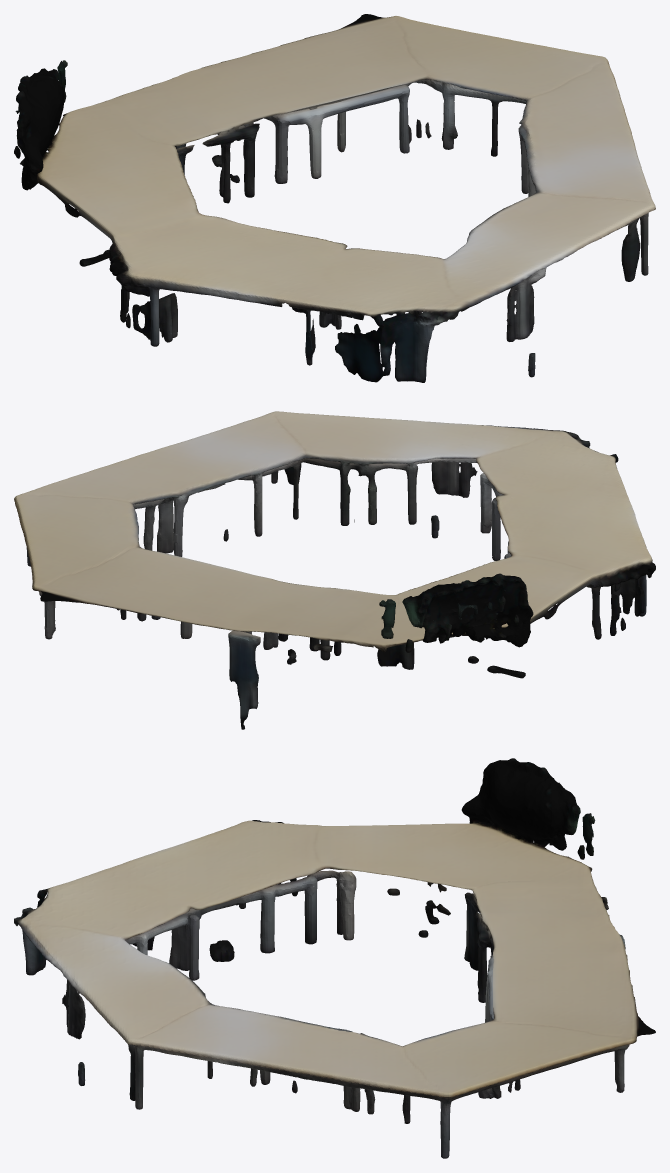
Rendered from trellis_multidiffusion.glb.
3 views of the same model, one above another, from view 1: azimuth 30°, elevation 25°; view 2: azimuth 150°, elevation 25°; view 3: azimuth 270°, elevation 25° (orthographic). The views are drawn at different scales.
Parts seen in each view (by area): view 1: world; view 2: world; view 3: world.
Part boxes in pixels (box(x1,y1,x2,y2)): world: box(14, 14, 655, 382); world: box(14, 411, 655, 729); world: box(14, 758, 655, 1158).
Bounding box in the file's own units: 1 × 0.3158 × 0.9694.
